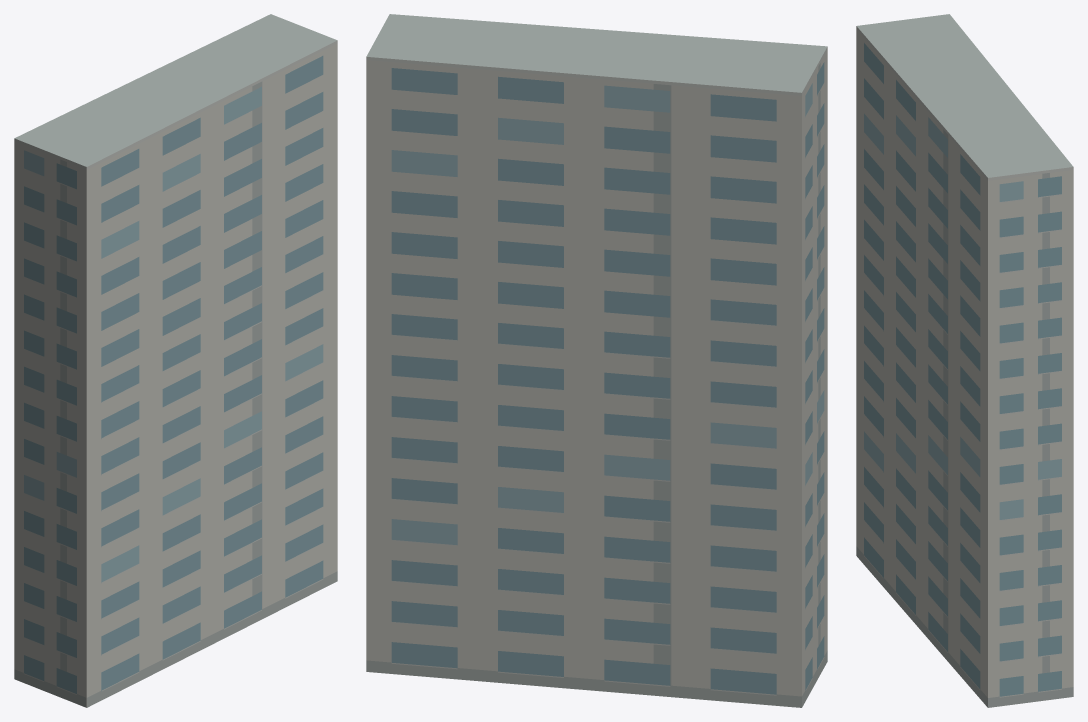
Rendered from survey-upis-32762915.glb.
The picture shows the model from 3 angles, left to right: view 1: azimuth 30°, elevation 25°; view 2: azimuth 150°, elevation 25°; view 3: azimuth 270°, elevation 25°; orthographic projection. The views are drawn at different scales.
Visible parts, largest first — view 1: survey-upis-32762915.tmp; view 2: survey-upis-32762915.tmp; view 3: survey-upis-32762915.tmp.
Boxes of the visible parts, x1,y1,x2,y2 form: survey-upis-32762915.tmp: [14, 14, 337, 707]; survey-upis-32762915.tmp: [366, 14, 827, 707]; survey-upis-32762915.tmp: [856, 14, 1073, 707].
Bounding box in the file's own units: 30.37 × 45.75 × 17.
